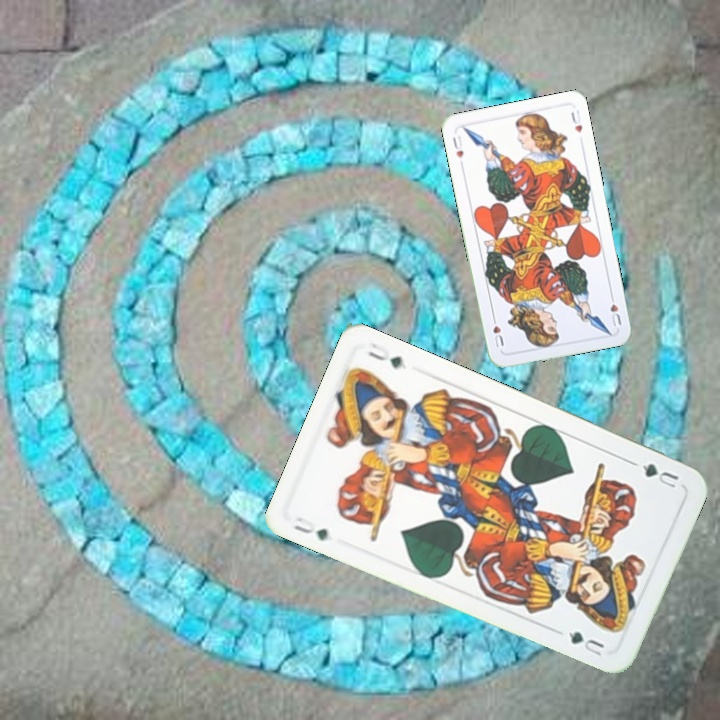GU: (628, 457, 681, 491), (289, 512, 331, 543)
HU: (606, 289, 624, 329), (448, 132, 466, 161)
